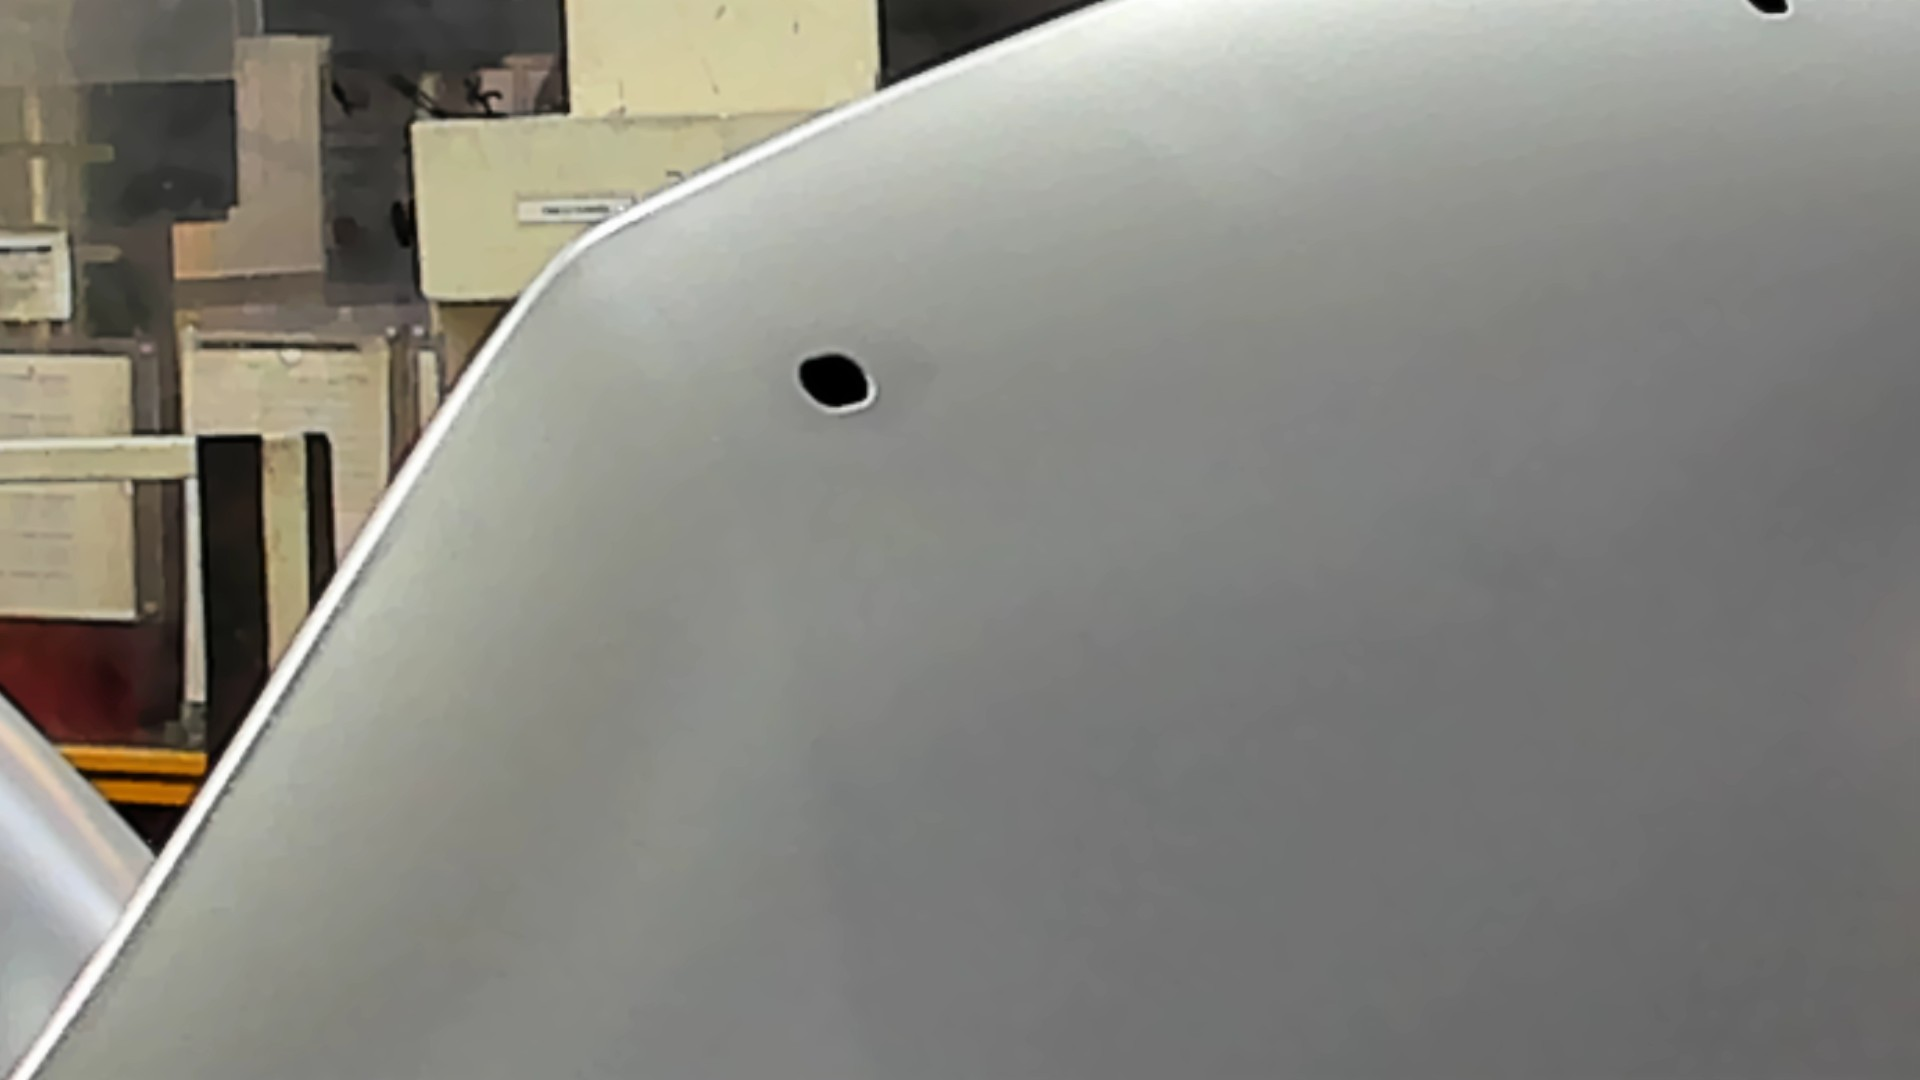amorfo: (787, 344, 882, 413), (1739, 1, 1801, 22)
